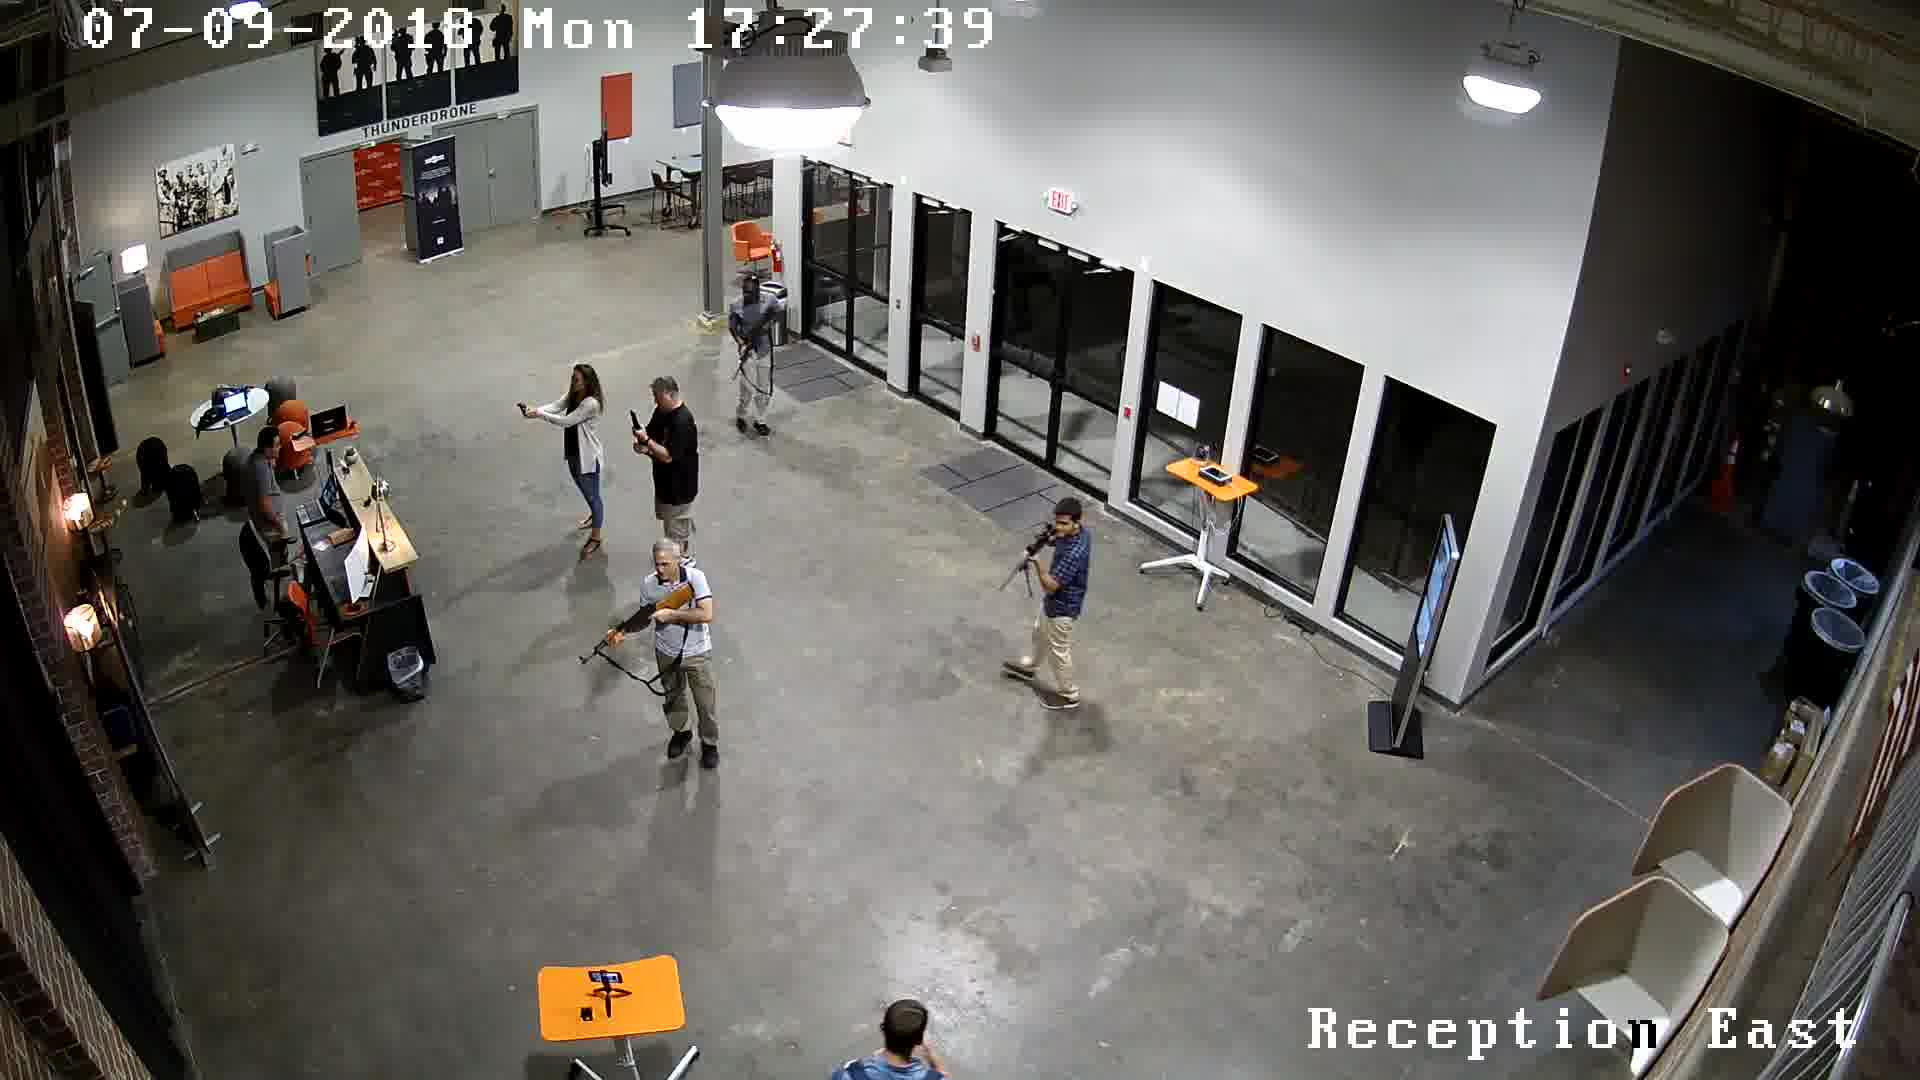pistol: (512, 397, 542, 429)
